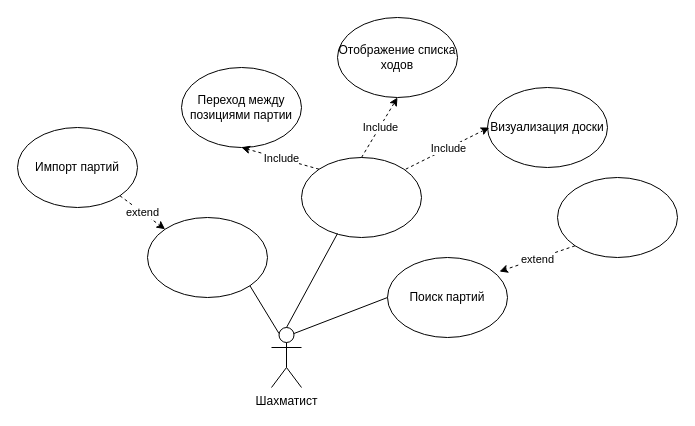
This 695x426 diagram has some shape labels left out. Each missing label, with the centre of its shape:
"Отображение партии" belongs at (x=361, y=197).
"Создание партии" belongs at (x=207, y=257).
"Удаление партий" belongs at (x=617, y=217).
